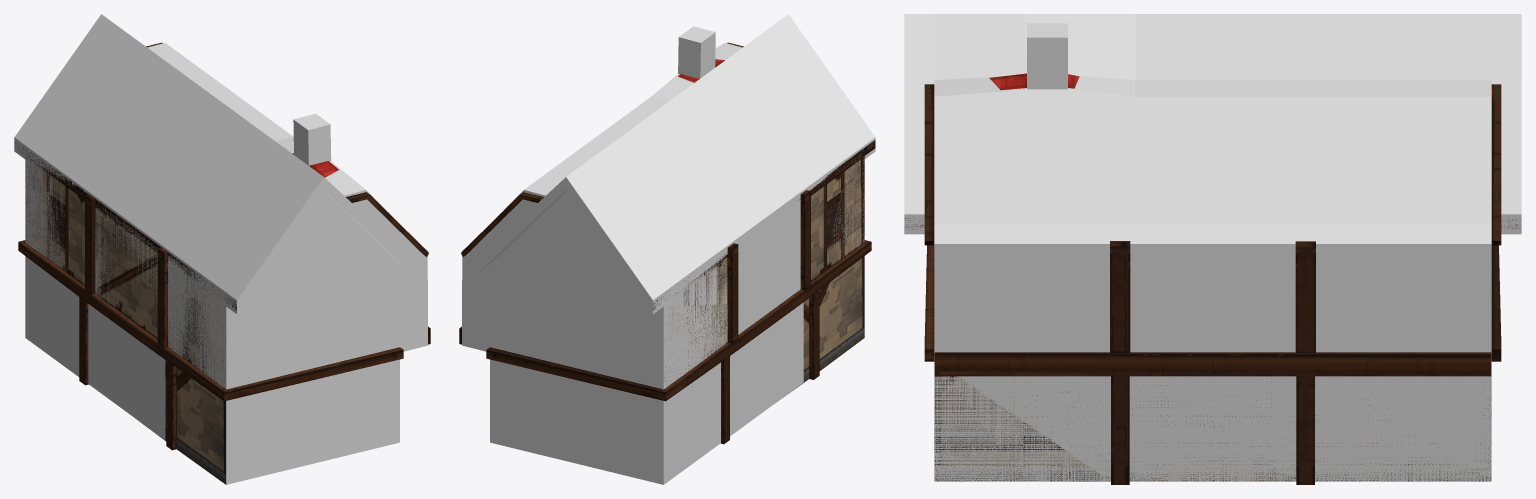
Rendered from House_1_Col (1).fbx.
The picture shows the model from 3 angles, left to right: view 1: azimuth 30°, elevation 25°; view 2: azimuth 150°, elevation 25°; view 3: azimuth 270°, elevation 25°; orthographic projection. The views are drawn at different scales.
Parts seen in each view (by area): view 1: House_1_Col, House1; view 2: House_1_Col, House1; view 3: House_1_Col, House1.
Part boxes in pixels (x1,y1,x2,y2): House_1_Col: [14, 14, 427, 484]; House1: [15, 42, 430, 484]; House_1_Col: [462, 14, 875, 484]; House1: [459, 42, 875, 444]; House_1_Col: [904, 14, 1521, 481]; House1: [905, 73, 1518, 484].
Size of the model in its own units: 242 by 333 by 444.
